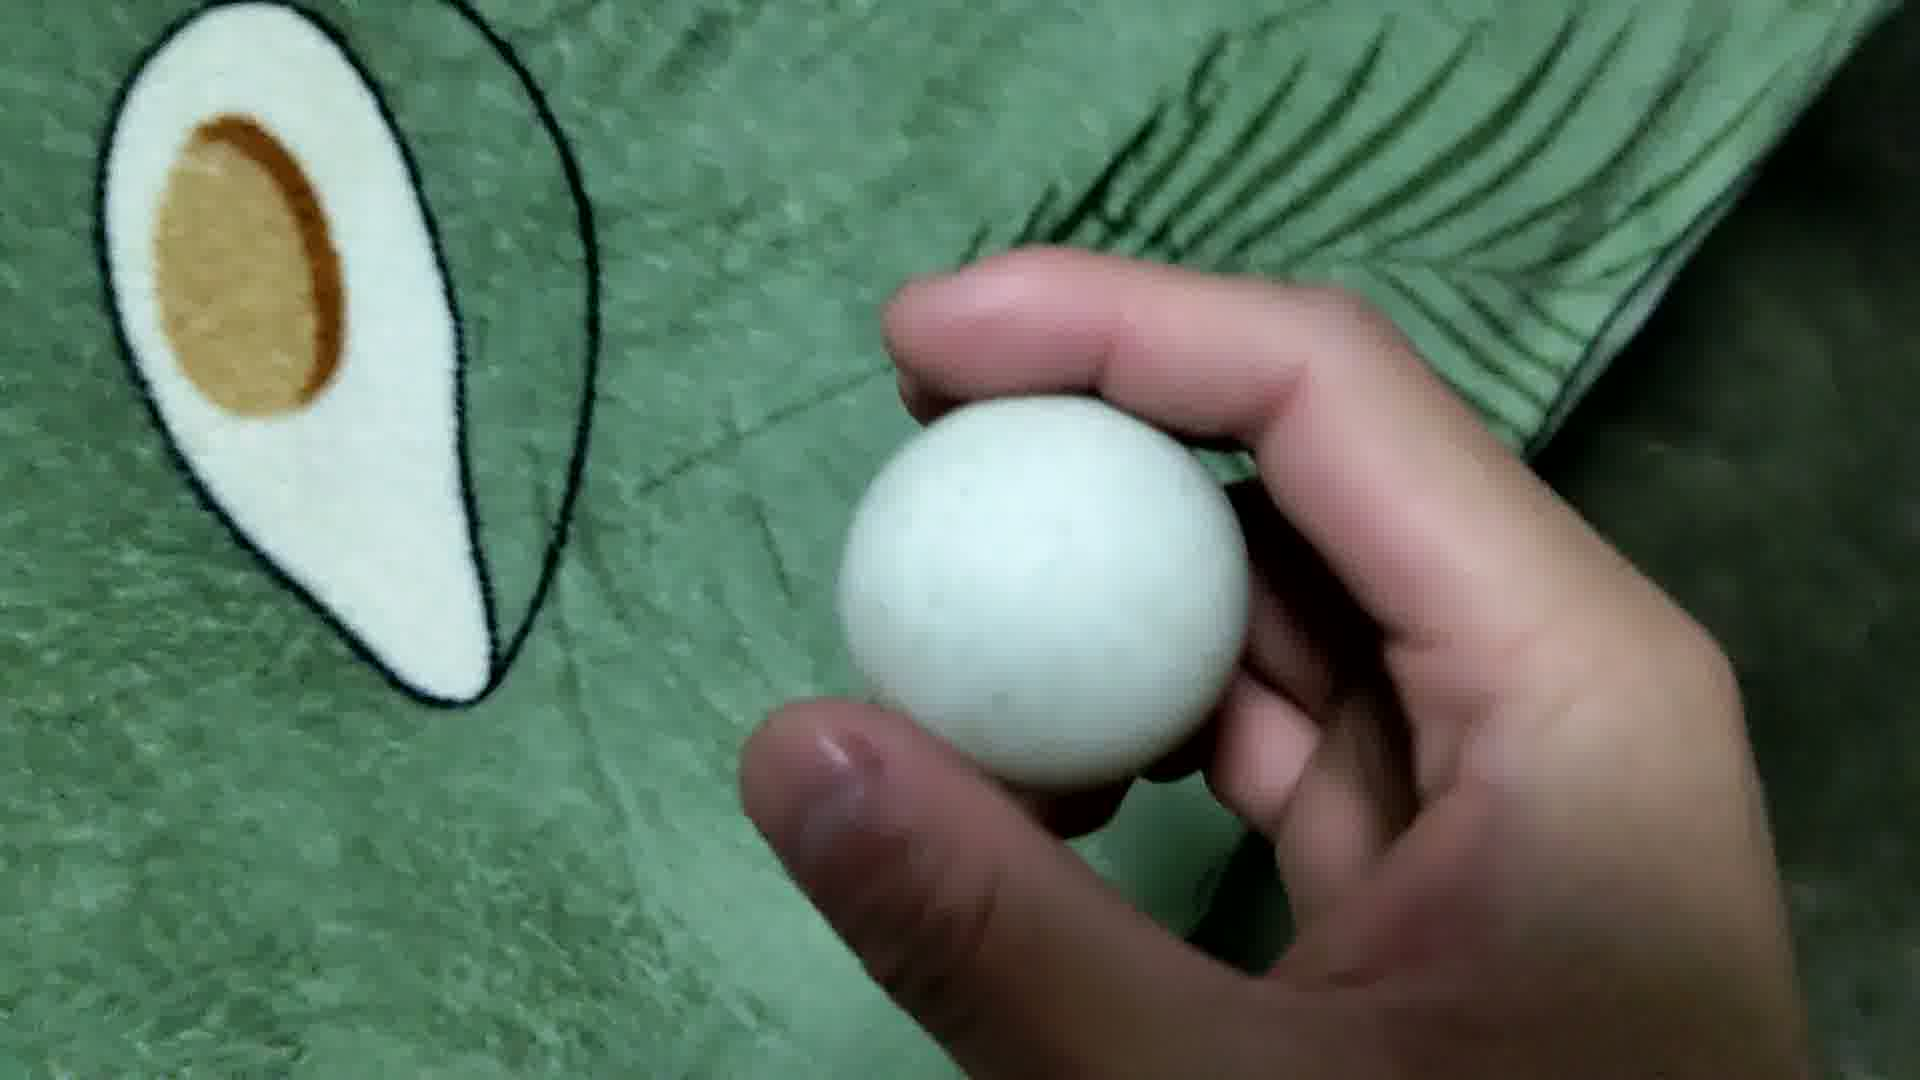Ball: (841, 390, 1251, 782)
